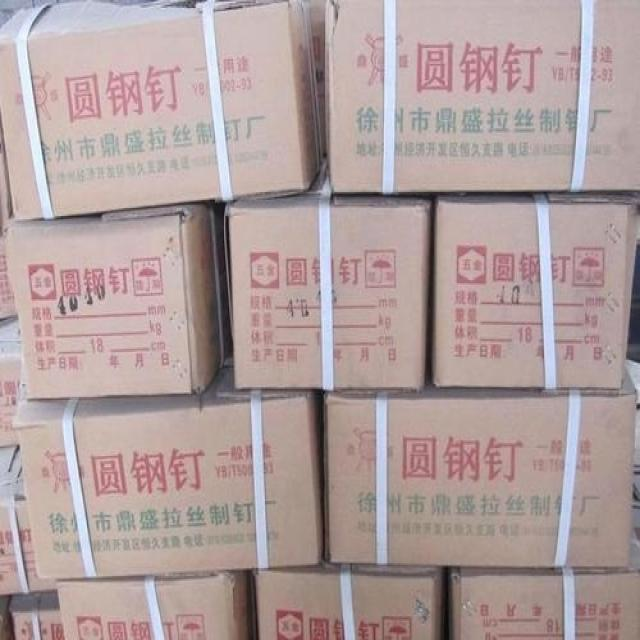box: (1, 1, 327, 216), (12, 359, 325, 576), (317, 364, 639, 571), (326, 2, 639, 190), (225, 152, 433, 390), (5, 199, 235, 398), (427, 189, 637, 391), (446, 537, 639, 636), (248, 554, 447, 636), (58, 566, 254, 636), (1, 441, 59, 596), (2, 121, 17, 321), (0, 320, 23, 447), (8, 594, 67, 637), (2, 594, 13, 637)
